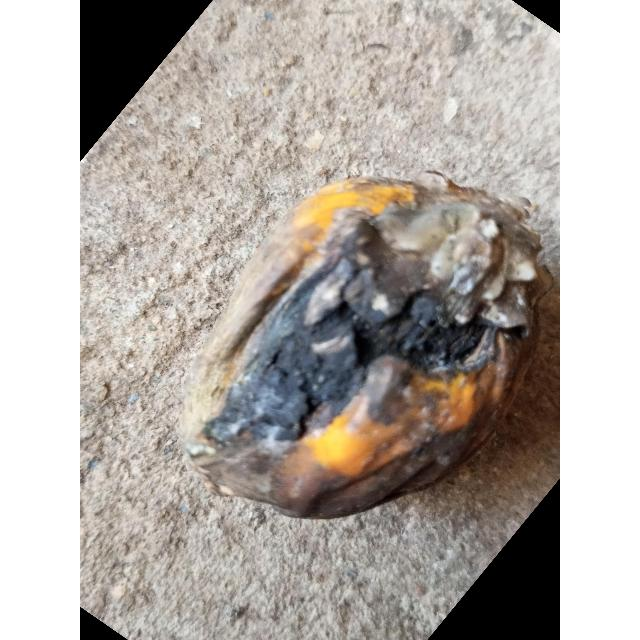damaged: (179, 172, 552, 518)
